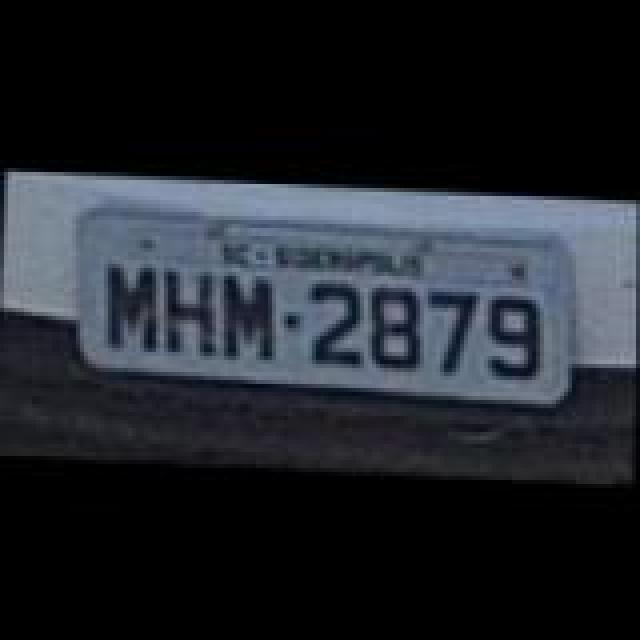2: (304, 274, 364, 358)
7: (424, 284, 484, 368)
8: (368, 280, 428, 364)
9: (486, 288, 550, 376)
H: (158, 264, 222, 356)
M: (98, 258, 162, 350), (216, 270, 276, 354)
